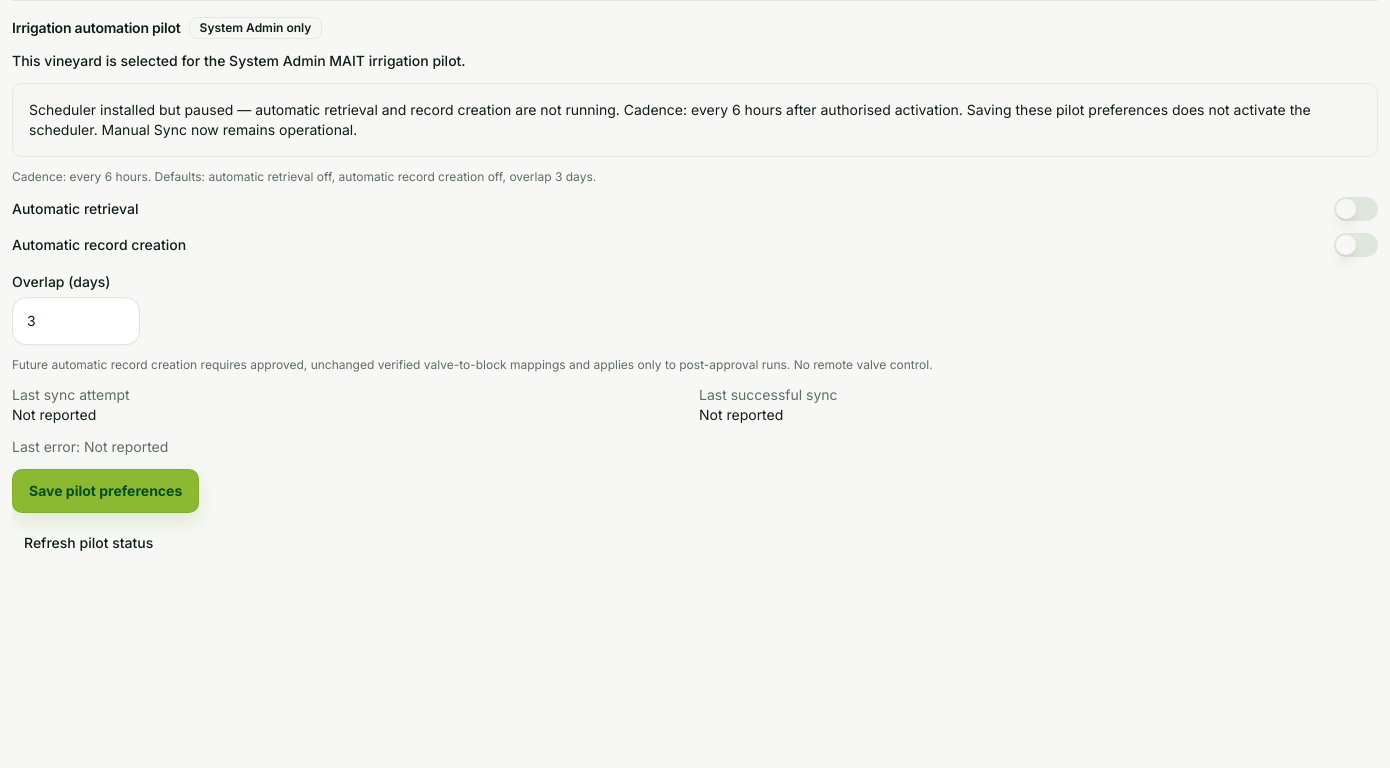
Test: MAIT irrigation automation pilot › rejects overlap 0 before a save request
Later steps or results of the test are not shown.
Replace the text in the number field with "0". click: (76, 321)
box: [12,297,140,345]
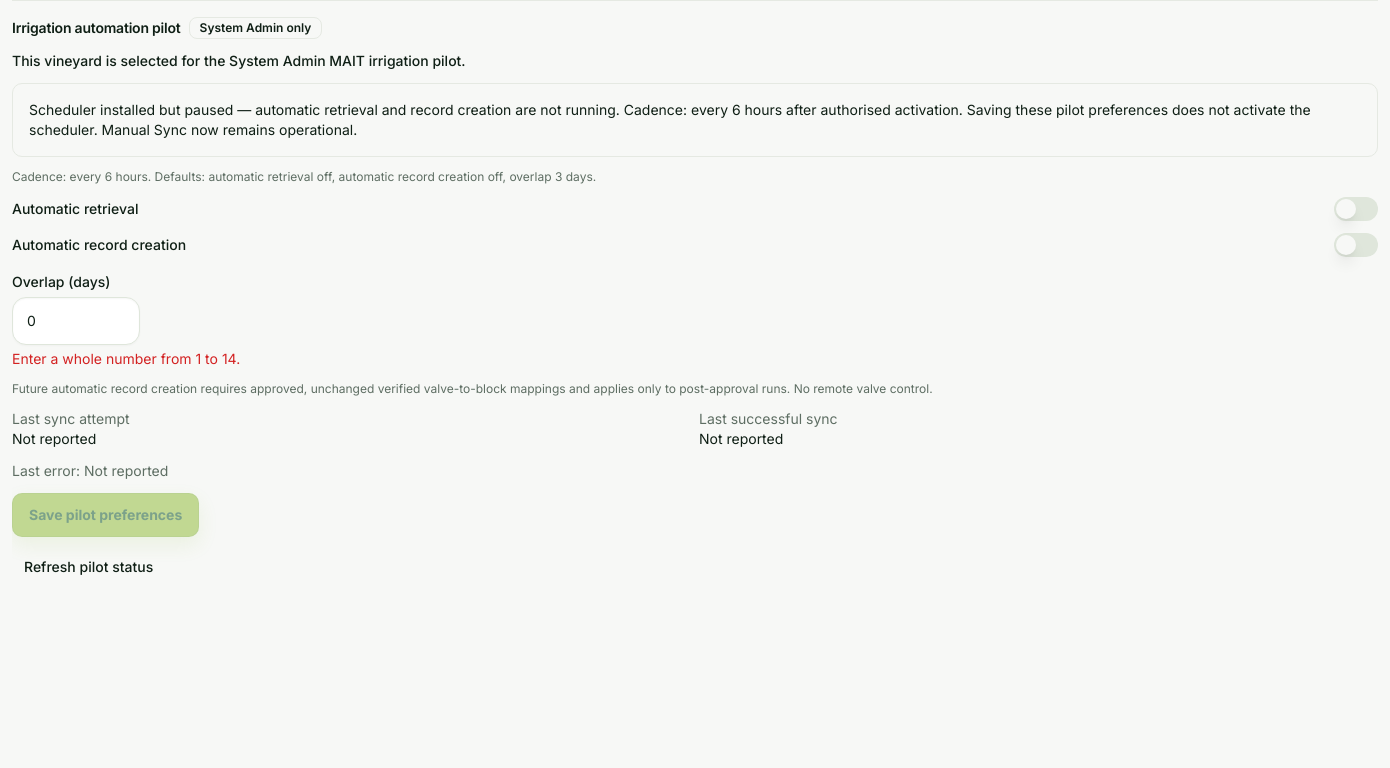
Expected: the button "Save pilot preferences" is disabled, [12,493,199,537]
